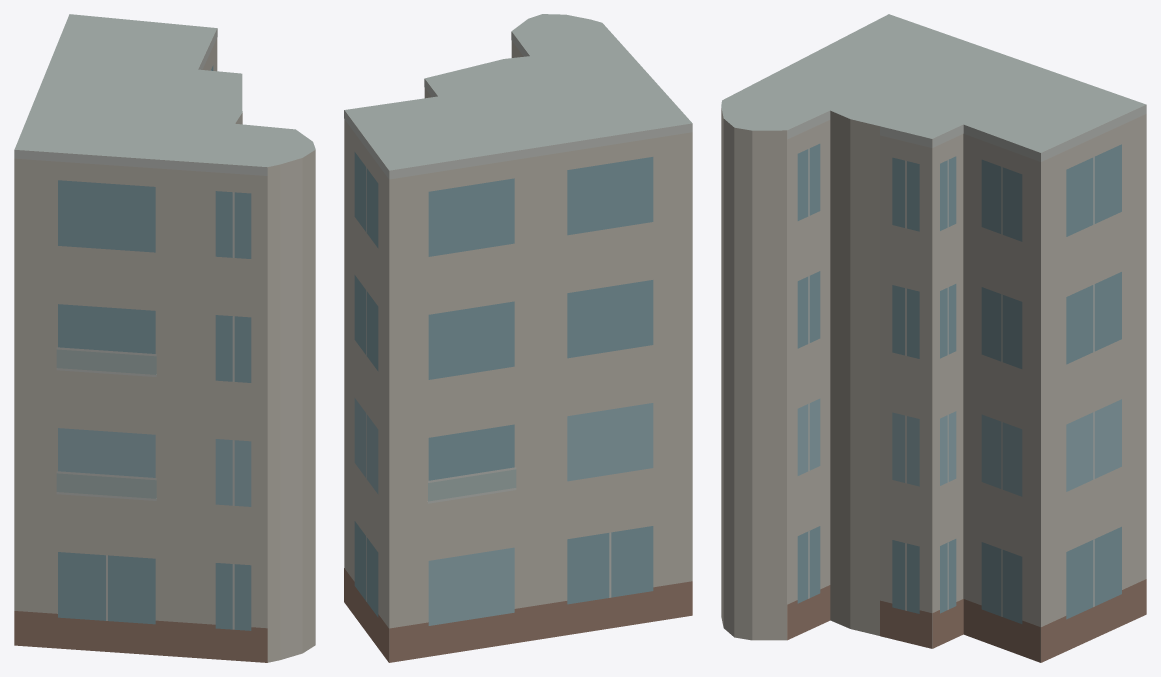
File: survey-upis-32466226.glb
The picture shows the model from 3 angles, left to right: view 1: azimuth 30°, elevation 25°; view 2: azimuth 150°, elevation 25°; view 3: azimuth 270°, elevation 25°; orthographic projection. The views are drawn at different scales.
Parts seen in each view (by area): view 1: survey-upis-32466226.tmp; view 2: survey-upis-32466226.tmp; view 3: survey-upis-32466226.tmp.
Boxes of the visible parts, <box> form: survey-upis-32466226.tmp: <box>14,14,315,662</box>; survey-upis-32466226.tmp: <box>344,14,692,662</box>; survey-upis-32466226.tmp: <box>721,14,1146,662</box>.
Bounding box in the file's own units: 7.96 × 13.6 × 10.29.
